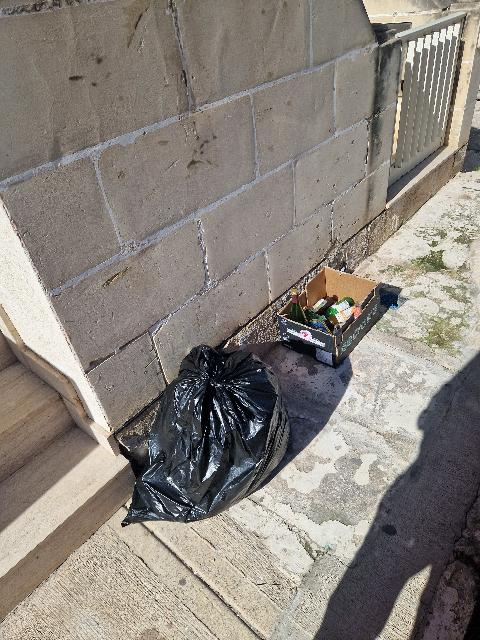Mixed -Black-: (123, 345, 290, 526)
Other: (277, 267, 379, 368)
